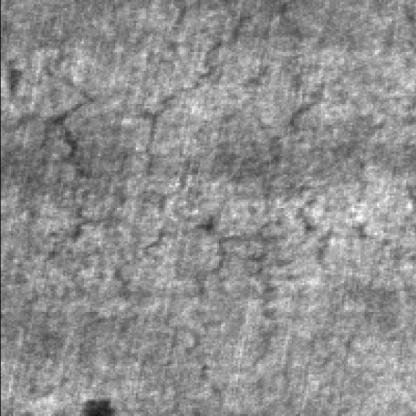crazing: (96, 6, 230, 304), (19, 37, 127, 287), (241, 54, 314, 372)
